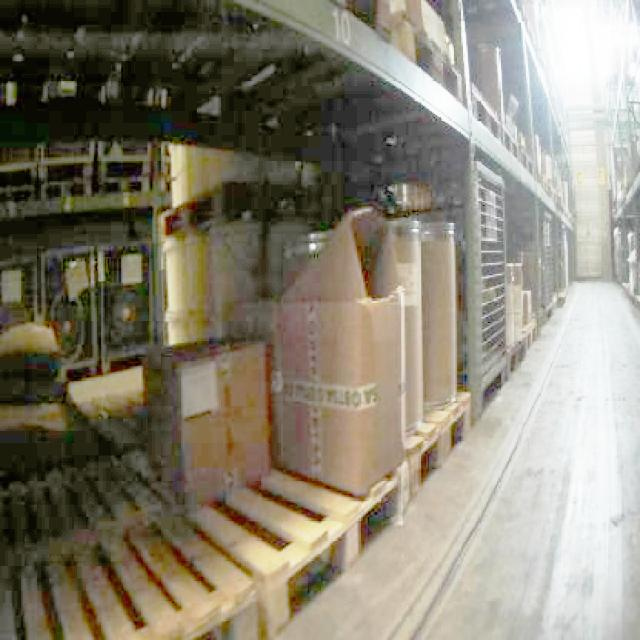ground: (265, 277, 638, 638)
pallet: (0, 388, 472, 638), (0, 515, 263, 638), (608, 0, 638, 638)
